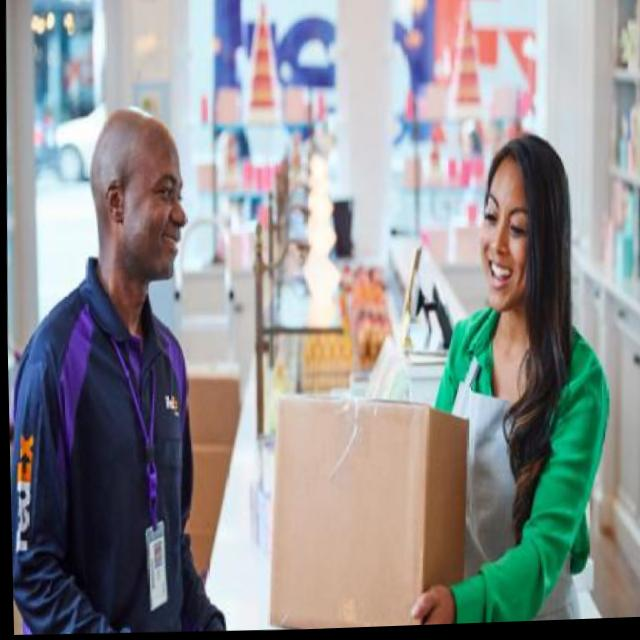box: (253, 378, 473, 633)
